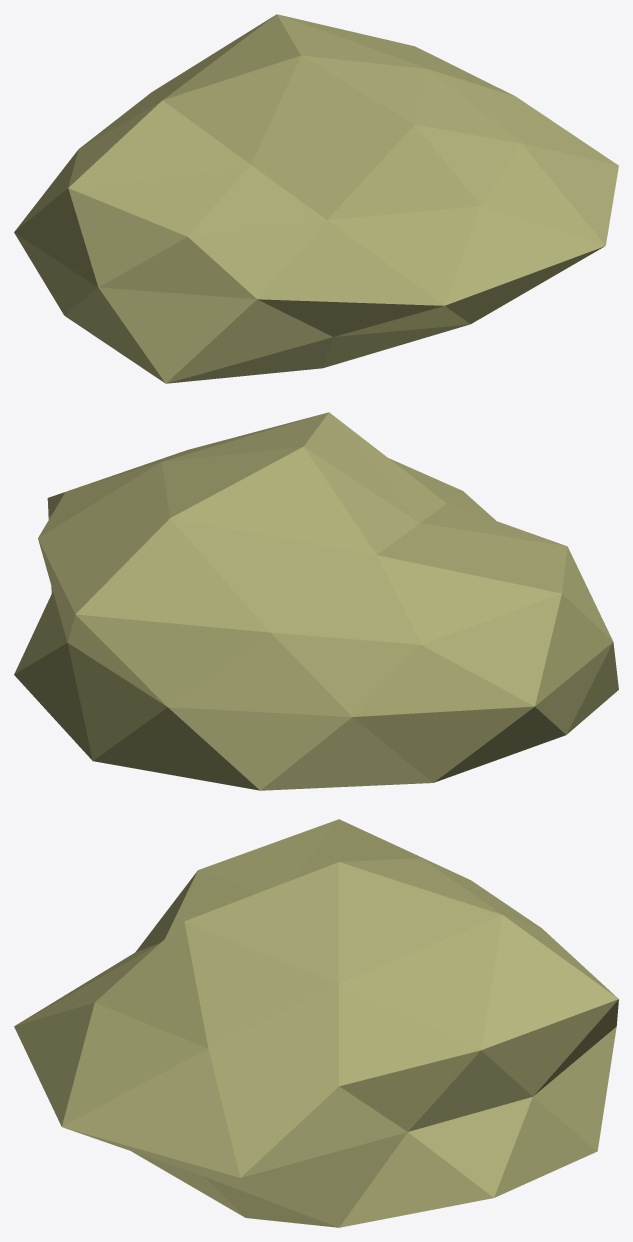
The model's file is shrub_dry.glb.
3 renders of one model, top to bottom at view 1: azimuth 30°, elevation 25°; view 2: azimuth 150°, elevation 25°; view 3: azimuth 270°, elevation 25°, orthographic. The views are drawn at different scales.
Visible parts, largest first — view 1: shrub_dry; view 2: shrub_dry; view 3: shrub_dry.
Part boxes in pixels (x1,y1,x2,y2): shrub_dry: [14, 14, 618, 383]; shrub_dry: [14, 412, 618, 790]; shrub_dry: [14, 819, 618, 1227].
Size of the model in its own units: 1.86 by 0.8893 by 1.64.
